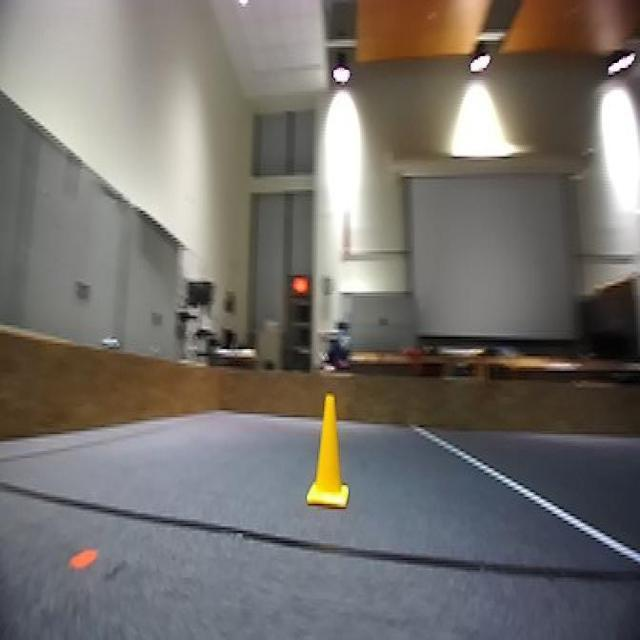frc_cone: (306, 393, 351, 512)
